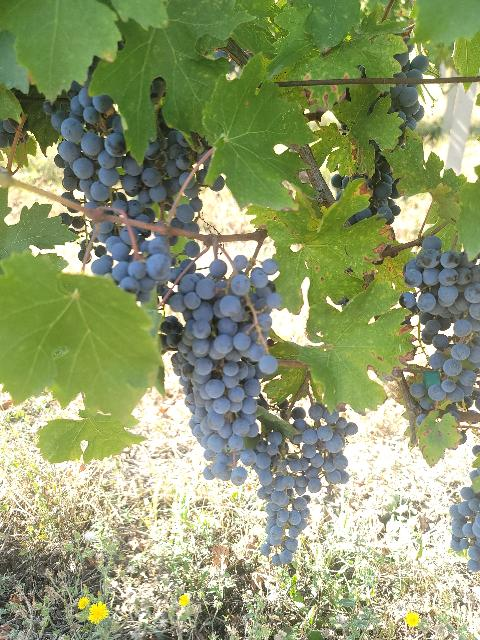grapes: (161, 255, 282, 485), (241, 431, 309, 566), (399, 235, 480, 344), (51, 88, 126, 202), (91, 226, 171, 302), (410, 319, 475, 410), (288, 402, 358, 484)
